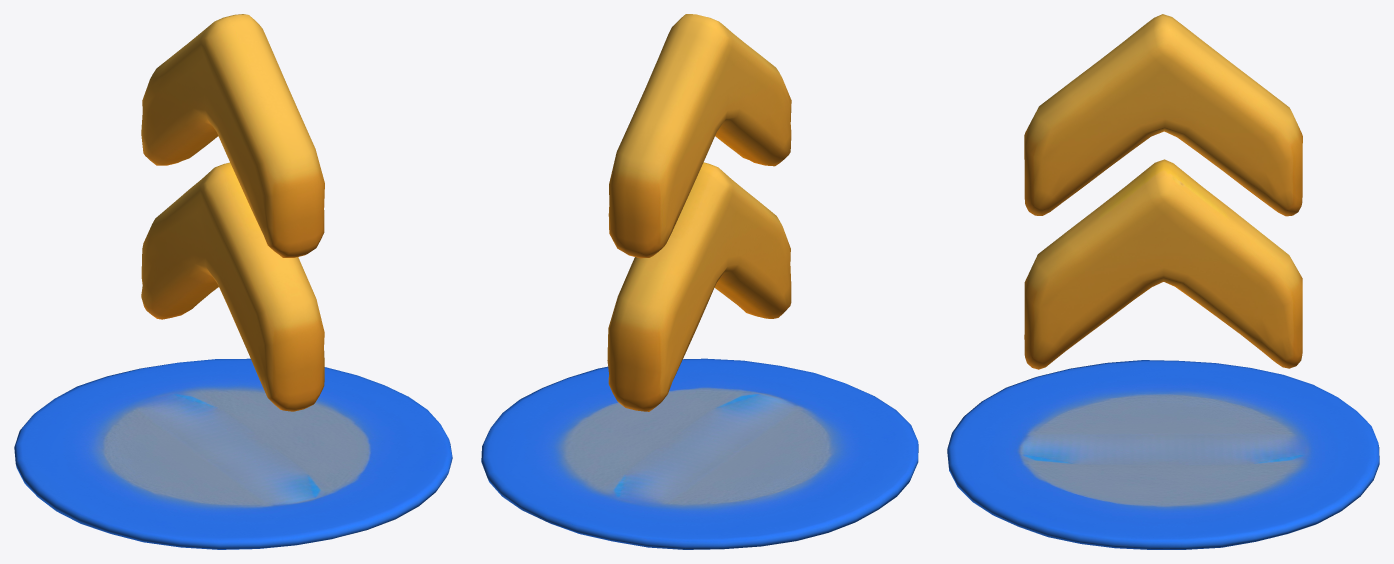
File: doblejump.fbx
3 views of the same model, side by side, from view 1: azimuth 30°, elevation 25°; view 2: azimuth 150°, elevation 25°; view 3: azimuth 270°, elevation 25° (orthographic).
Visible parts, largest first — view 1: tripo_node_3680ae55; view 2: tripo_node_3680ae55; view 3: tripo_node_3680ae55.
Boxes of the visible parts, <box> form: tripo_node_3680ae55: <box>14,14,452,549</box>; tripo_node_3680ae55: <box>481,14,918,549</box>; tripo_node_3680ae55: <box>947,14,1379,549</box>.
Size of the model in its own units: 0.8839 by 0.9997 by 0.885.
Materials: 1 (1 with a texture image).
